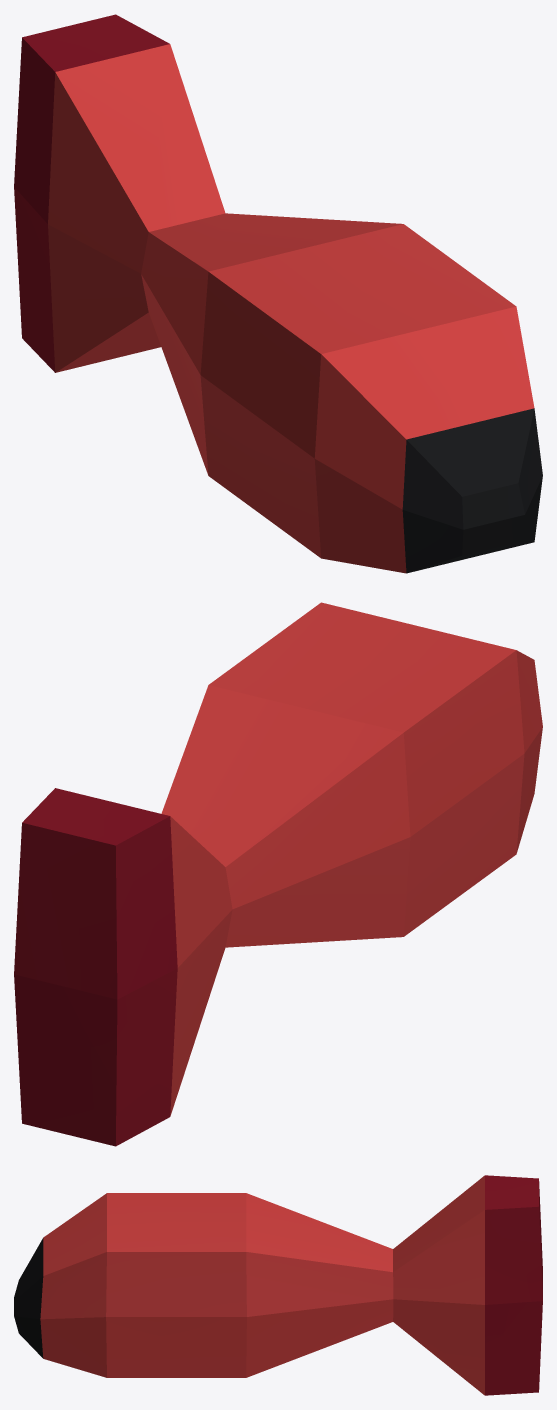
File: fish1.fbx
3 renders of one model, top to bottom at view 1: azimuth 30°, elevation 25°; view 2: azimuth 150°, elevation 25°; view 3: azimuth 270°, elevation 25°, orthographic. The views are drawn at different scales.
Parts seen in each view (by area): view 1: Cube; view 2: Cube; view 3: Cube.
Part boxes in pixels (x1,y1,x2,y2): Cube: [14, 14, 542, 573]; Cube: [14, 602, 542, 1146]; Cube: [14, 1175, 542, 1395].
Size of the model in its own units: 42.98 by 58.89 by 152.
Materials: 1 (1 with a texture image).
